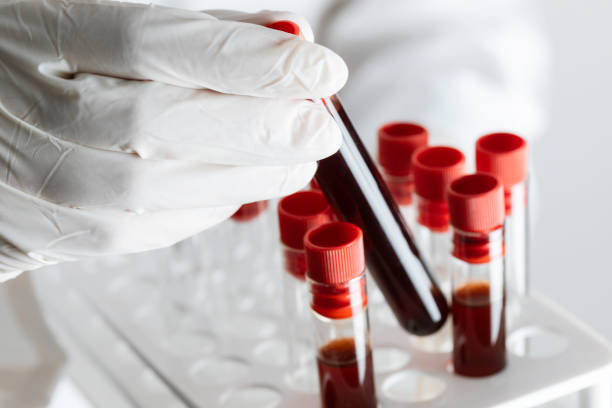blood: (312, 99, 450, 338), (448, 282, 509, 378), (316, 336, 378, 408)
